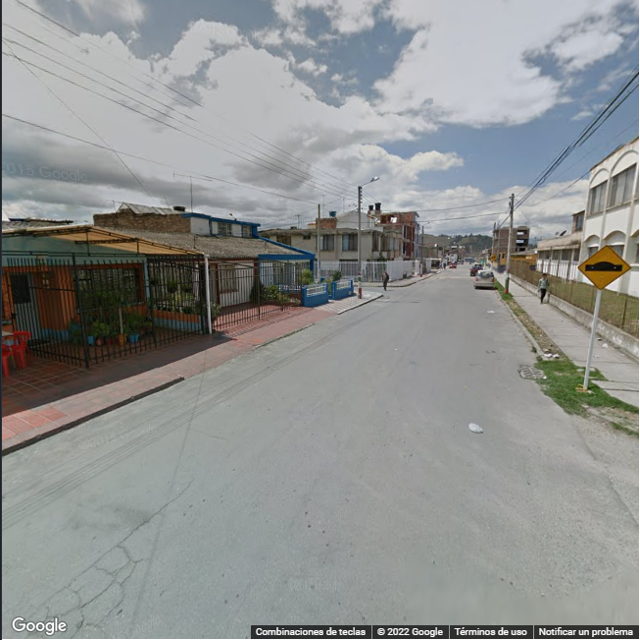D00: (19, 483, 188, 618), (46, 571, 118, 621)
D10: (61, 581, 88, 609), (119, 544, 137, 564)
